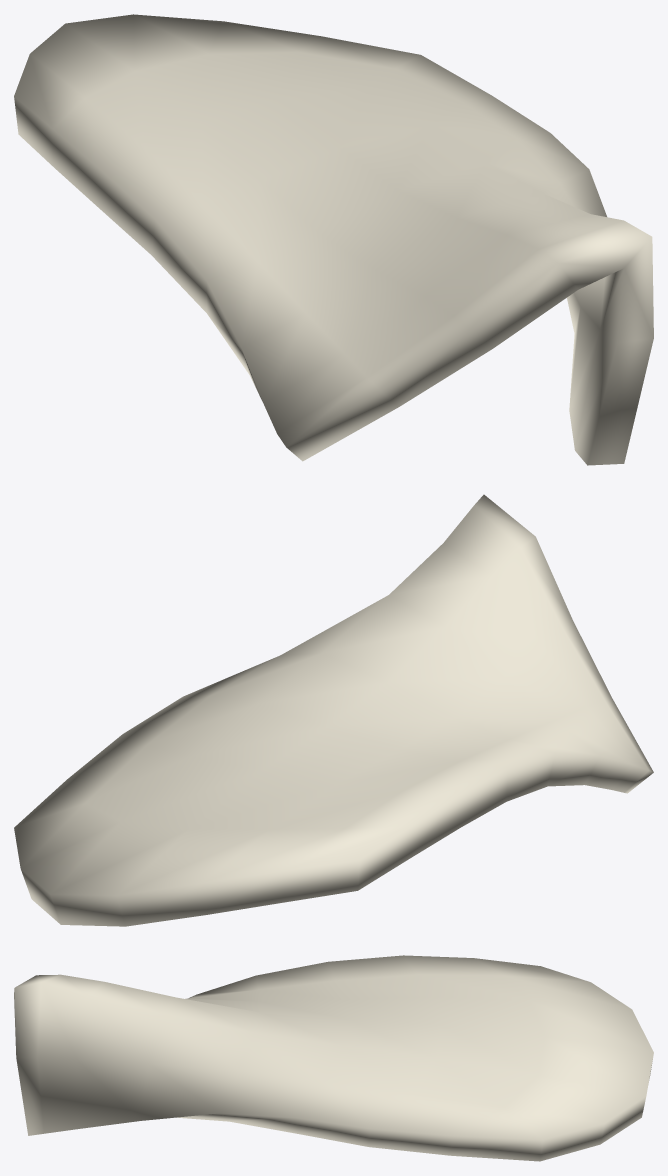
3 views of the same model, one above another, from view 1: azimuth 30°, elevation 25°; view 2: azimuth 150°, elevation 25°; view 3: azimuth 270°, elevation 25° (orthographic). The views are drawn at different scales.
Visible parts, largest first — view 1: ZA_95ec1b96339f4f2e; view 2: ZA_95ec1b96339f4f2e; view 3: ZA_95ec1b96339f4f2e.
Part boxes in pixels (x1=…): ZA_95ec1b96339f4f2e: x1=14, y1=14, x2=653, y2=465; ZA_95ec1b96339f4f2e: x1=14, y1=494, x2=653, y2=926; ZA_95ec1b96339f4f2e: x1=14, y1=955, x2=653, y2=1161.
Size of the model in its own units: 0.00619 by 0.00306 by 0.0113.
